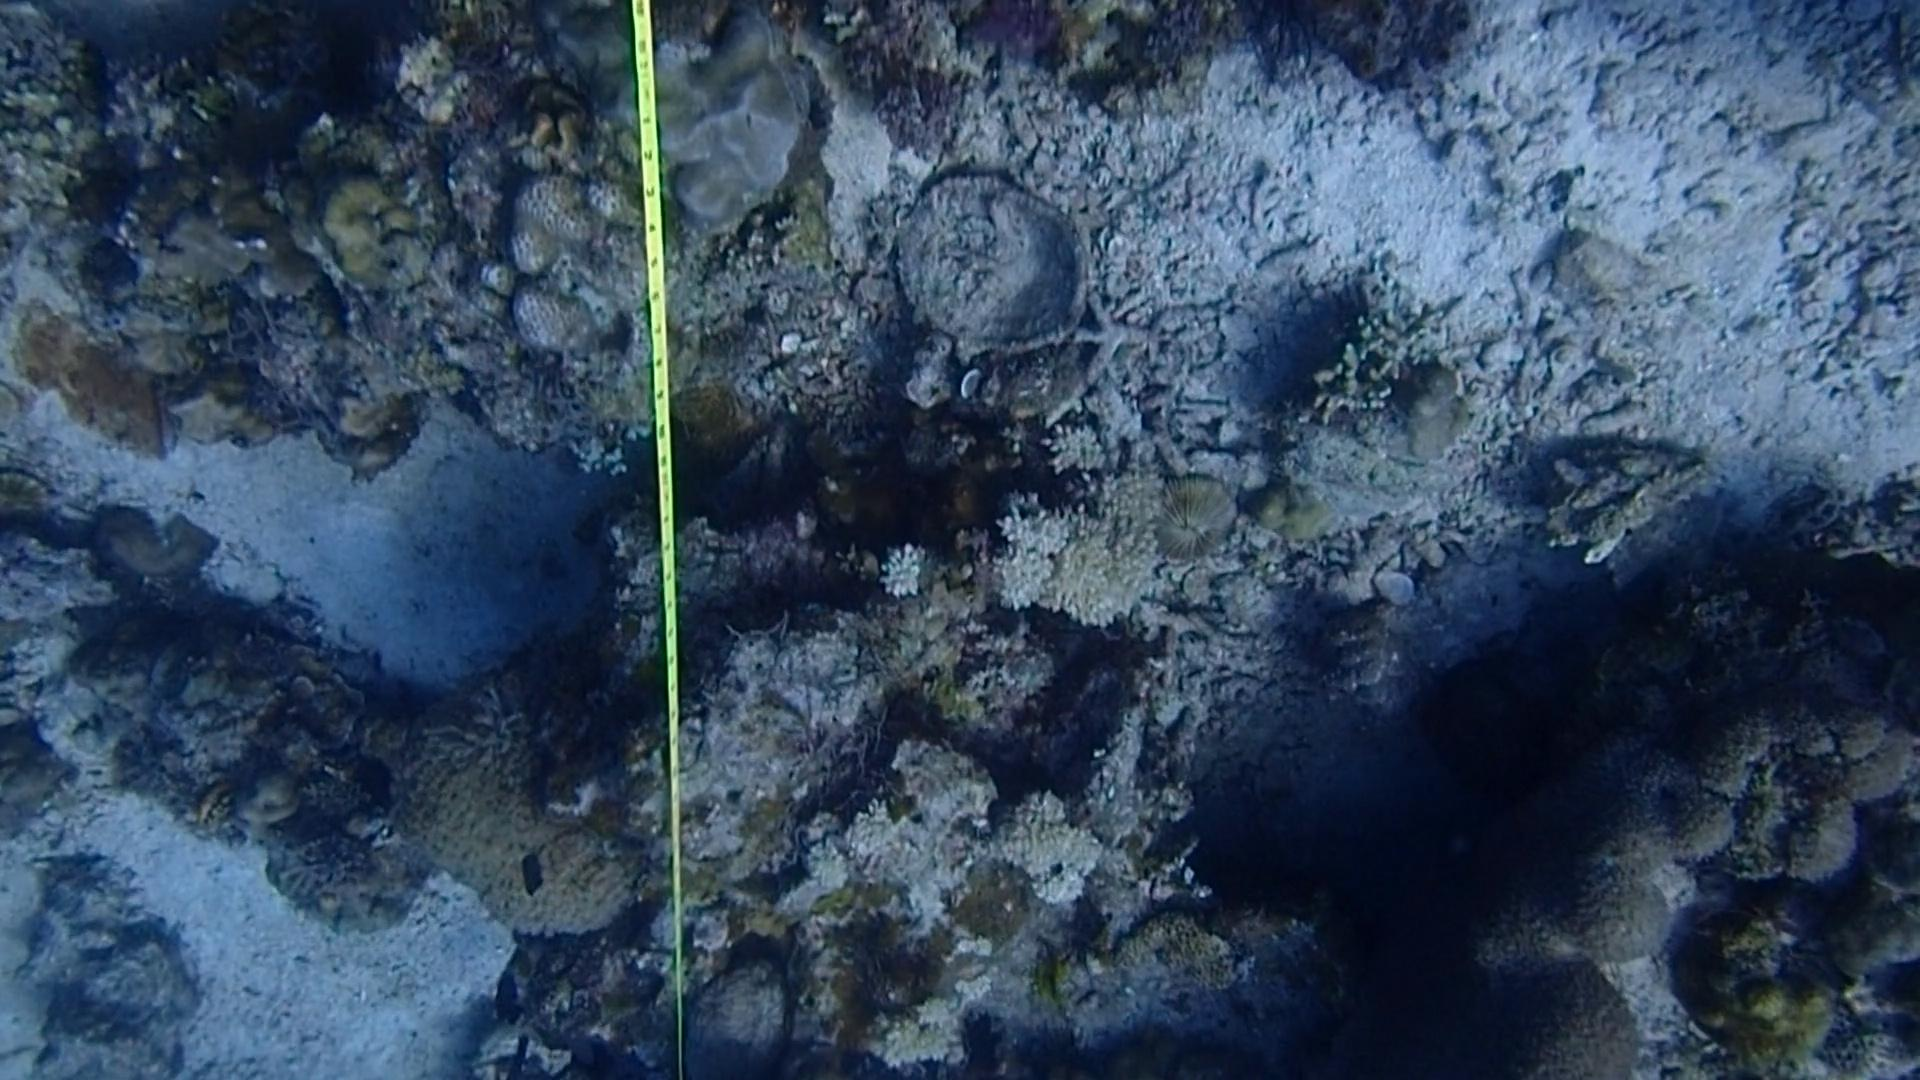Dark Fish: (501, 841, 556, 913), (487, 956, 530, 1035)
